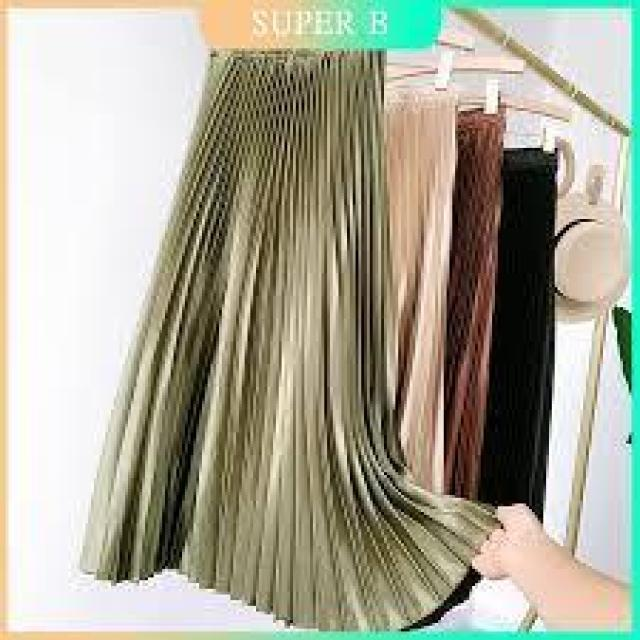skirt: (67, 41, 508, 613)
